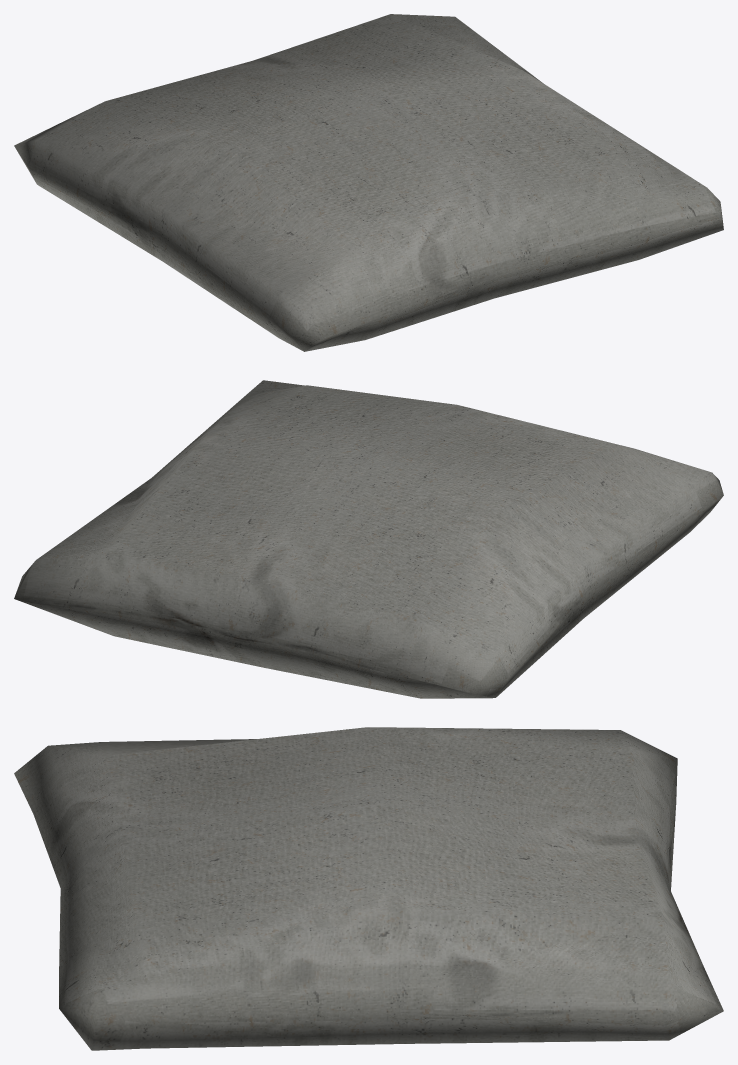
The model's file is Pillow.fbx.
The picture shows the model from 3 angles, top to bottom: view 1: azimuth 30°, elevation 25°; view 2: azimuth 150°, elevation 25°; view 3: azimuth 270°, elevation 25°; orthographic projection. The views are drawn at different scales.
Visible parts, largest first — view 1: Pillow; view 2: Pillow; view 3: Pillow.
Boxes of the visible parts, <box> form: Pillow: <box>14,14,723,351</box>; Pillow: <box>14,380,723,698</box>; Pillow: <box>14,727,723,1050</box>.
Size of the model in its own units: 131 by 33.51 by 141.
1 material, 1 textured.
